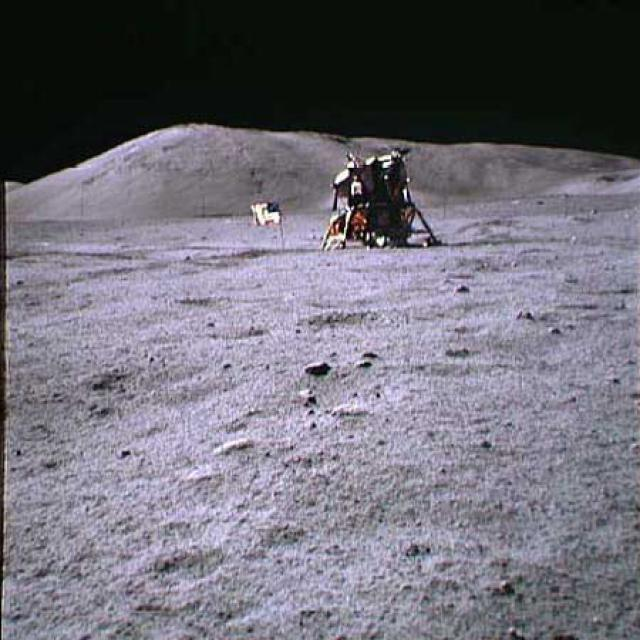artifact: (318, 147, 441, 249), (243, 199, 292, 247)
crater: (318, 306, 390, 327), (474, 256, 548, 272), (190, 294, 253, 308)
rock: (298, 356, 329, 376), (297, 387, 319, 407), (512, 306, 532, 322), (357, 346, 379, 358), (455, 282, 468, 297)
